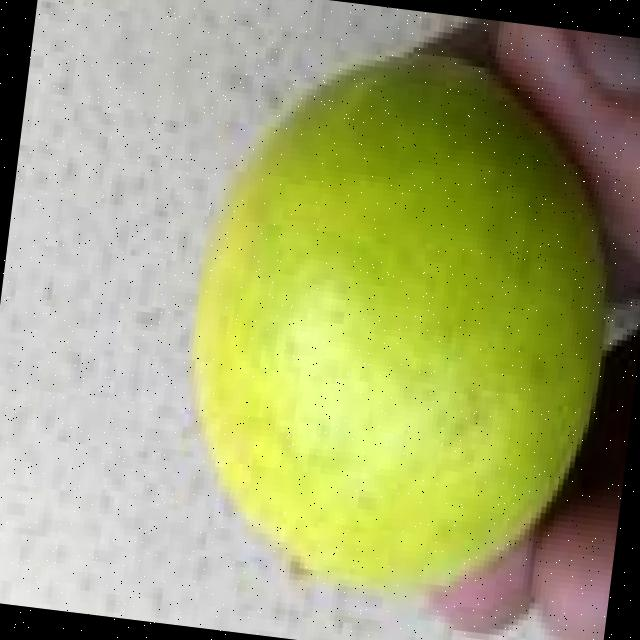Good_Lime-10-21-days: (191, 43, 617, 600)
